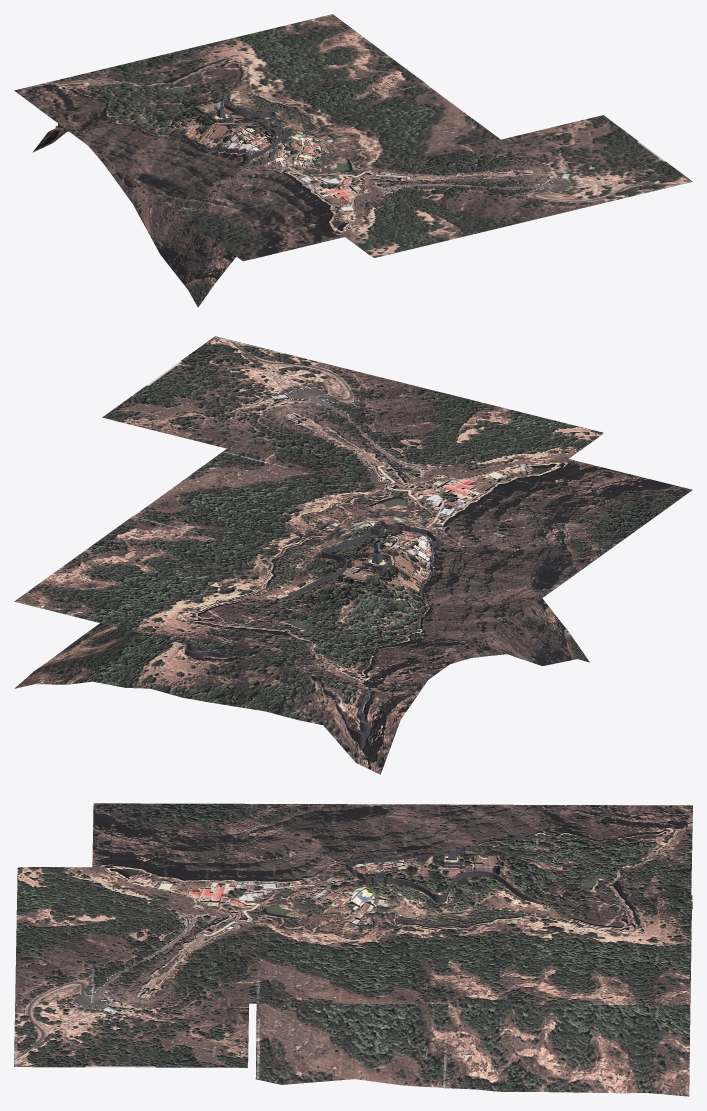
Rendered from pratapgad.glb.
The picture shows the model from 3 angles, top to bottom: view 1: azimuth 30°, elevation 25°; view 2: azimuth 150°, elevation 25°; view 3: azimuth 270°, elevation 25°; orthographic projection. The views are drawn at different scales.
Visible parts, largest first — view 1: G-Google Earth Snapshot.001, G-Google Earth Snapshot.002, G-Google Earth Snapshot.003, G-Google Earth Snapshot, G-Google Earth Terrain.001, G-Google Earth Terrain, _(Loose Entity); view 2: G-Google Earth Snapshot.003, G-Google Earth Snapshot.002, G-Google Earth Snapshot, G-Google Earth Terrain, G-Google Earth Snapshot.001, G-Google Earth Terrain.001, _(Loose Entity); view 3: G-Google Earth Snapshot.001, G-Google Earth Snapshot.002, G-Google Earth Snapshot, G-Google Earth Snapshot.003, G-Google Earth Terrain, G-Google Earth Terrain.001, _(Loose Entity).
Boxes of the visible parts, box(x1,y1,x2,y2) form: G-Google Earth Snapshot.001: box(154, 118, 560, 261); G-Google Earth Snapshot.002: box(14, 14, 426, 160); G-Google Earth Snapshot.003: box(285, 115, 692, 257); G-Google Earth Snapshot: box(97, 71, 471, 213); G-Google Earth Terrain.001: box(109, 106, 332, 307); G-Google Earth Terrain: box(32, 100, 267, 194); _(Loose Entity): box(55, 95, 287, 162); G-Google Earth Snapshot.003: box(102, 336, 603, 514); G-Google Earth Snapshot.002: box(14, 516, 521, 697); G-Google Earth Snapshot: box(116, 451, 612, 628); G-Google Earth Terrain: box(14, 558, 498, 774); G-Google Earth Snapshot.001: box(192, 394, 692, 568); G-Google Earth Terrain.001: box(301, 513, 589, 665); _(Loose Entity): box(184, 520, 441, 748); G-Google Earth Snapshot.001: box(90, 803, 326, 1003); G-Google Earth Snapshot.002: box(443, 804, 692, 1004); G-Google Earth Snapshot: box(256, 804, 492, 1004); G-Google Earth Snapshot.003: box(14, 867, 251, 1067); G-Google Earth Terrain: box(442, 845, 692, 1096); G-Google Earth Terrain.001: box(255, 847, 491, 1089); _(Loose Entity): box(346, 835, 540, 903).
Size of the model in its own units: 650 by 189 by 705.
6 materials, 6 textured.
